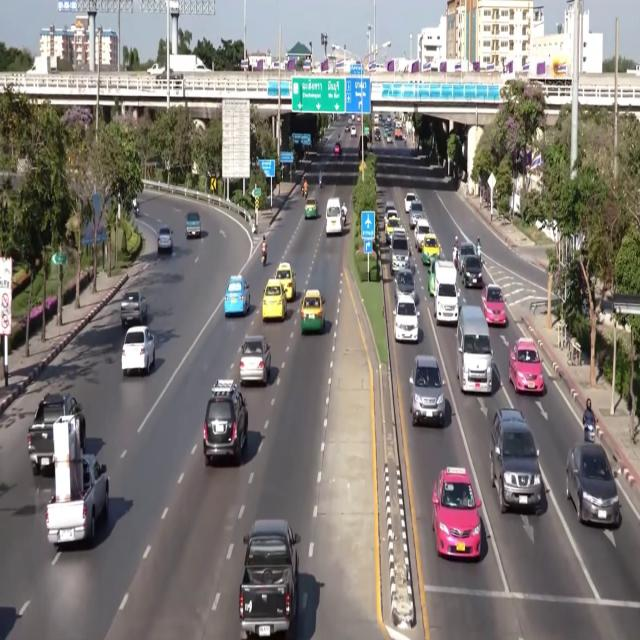car: (490, 408, 543, 513), (566, 443, 620, 527), (432, 467, 481, 559), (203, 380, 248, 465), (410, 355, 445, 426), (509, 338, 544, 393), (121, 326, 155, 375), (240, 336, 271, 384), (393, 296, 419, 343), (224, 275, 250, 316), (301, 289, 324, 335), (481, 284, 506, 326), (120, 290, 147, 327), (262, 279, 286, 320), (390, 229, 410, 273), (275, 263, 295, 301), (394, 269, 416, 302), (461, 256, 482, 287), (458, 242, 476, 273), (422, 233, 440, 264), (414, 218, 430, 248), (385, 214, 400, 244), (427, 256, 438, 296), (409, 200, 424, 229), (157, 226, 172, 254), (186, 212, 201, 239), (404, 192, 417, 214), (304, 198, 318, 218), (384, 200, 396, 216), (334, 142, 341, 157), (374, 129, 381, 141), (350, 126, 356, 137), (386, 133, 392, 143), (345, 122, 349, 131), (356, 116, 360, 123)
scooty: (584, 418, 595, 442), (261, 249, 266, 266), (133, 204, 139, 217), (318, 176, 322, 189)
traffic signal: (210, 176, 216, 191), (255, 197, 259, 209)
truck: (46, 417, 108, 545), (239, 520, 300, 637), (27, 393, 85, 475), (433, 260, 459, 324), (170, 55, 210, 73), (27, 56, 56, 75), (147, 63, 165, 77)
